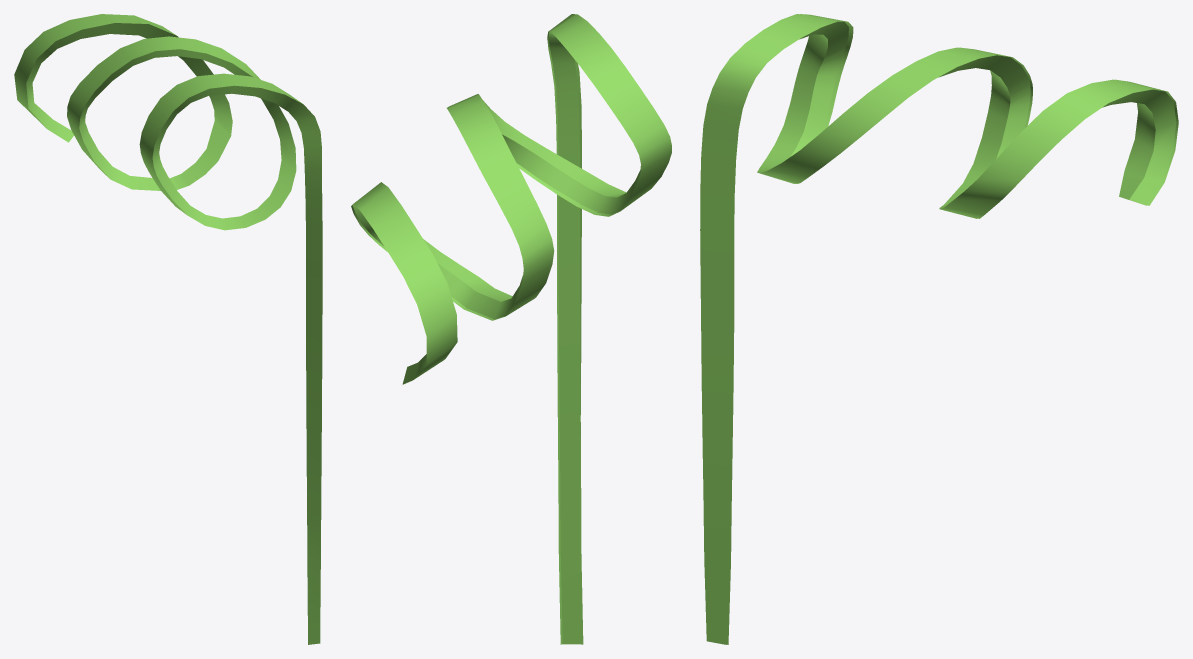
File: lianas_A.fbx
3 renders of one model, left to right at view 1: azimuth 30°, elevation 25°; view 2: azimuth 150°, elevation 25°; view 3: azimuth 270°, elevation 25°, orthographic. The views are drawn at different scales.
Visible parts, largest first — view 1: liana_A_thick, liana_A; view 2: liana_A_thick, liana_A; view 3: liana_A_thick, liana_A.
Part boxes in pixels (x1,y1,x2,y2): liana_A_thick: (25,22,322,644); liana_A: (14,14,300,213); liana_A_thick: (352,14,671,644); liana_A: (351,15,669,644); liana_A_thick: (700,14,1176,644); liana_A: (726,14,1178,644).
Bounding box in the file's own units: 21.15 × 68.39 × 49.72.
